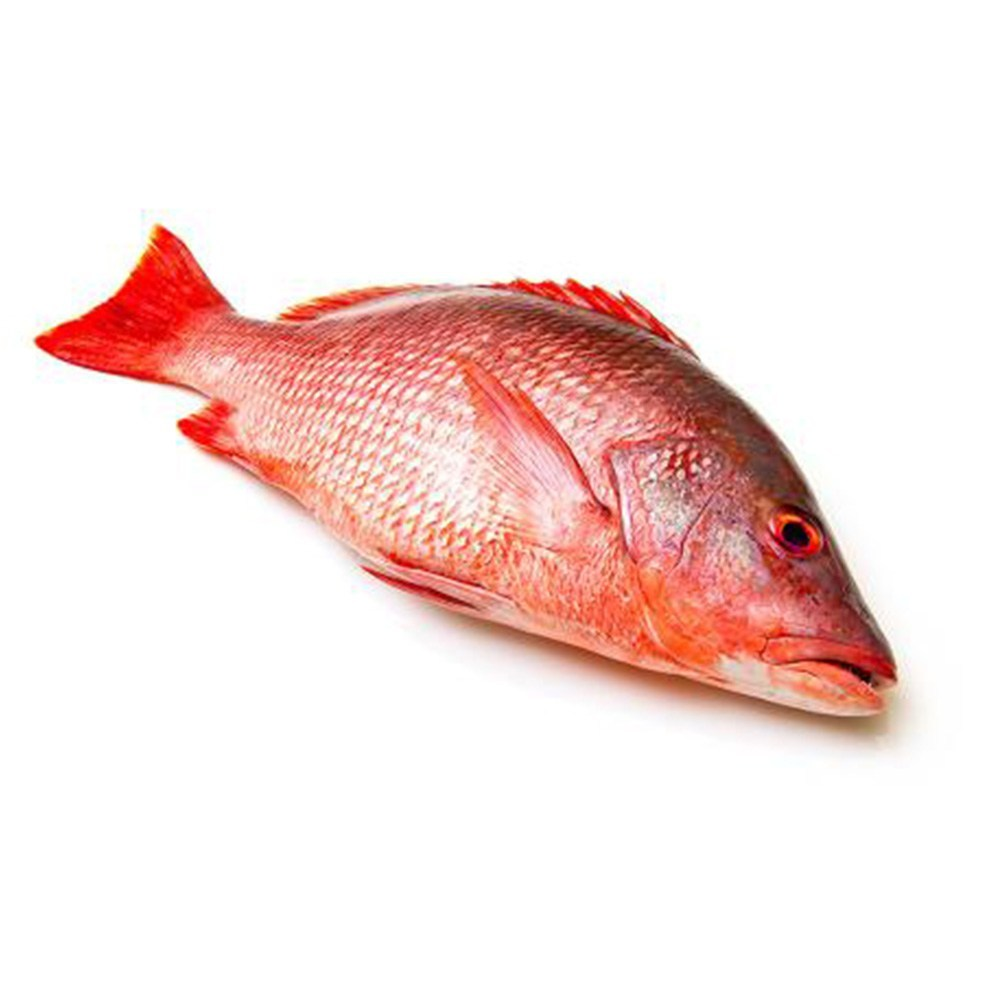Ikan Kerisi: (29, 192, 975, 779)
